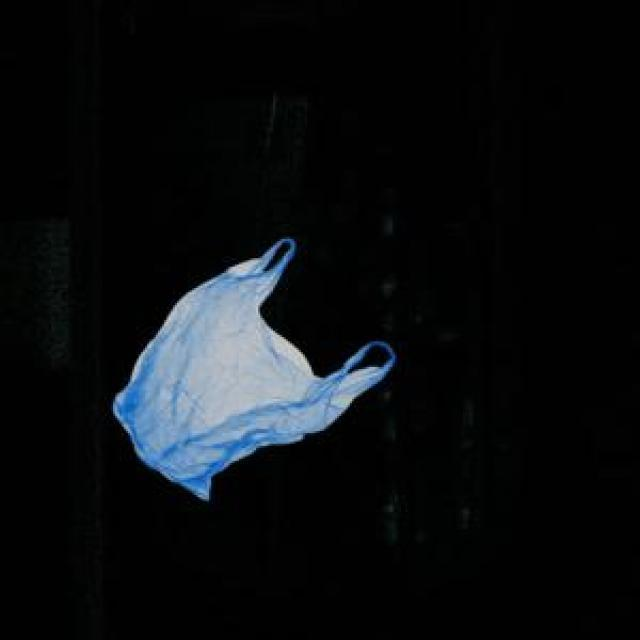Bolsa-de-nilon: (114, 239, 395, 499)
